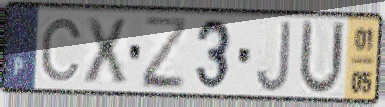3: (194, 15, 233, 94)
C: (39, 16, 85, 84)
J: (254, 19, 293, 95)
U: (296, 17, 347, 99)
X: (82, 15, 129, 86)
Z: (142, 15, 190, 92)
